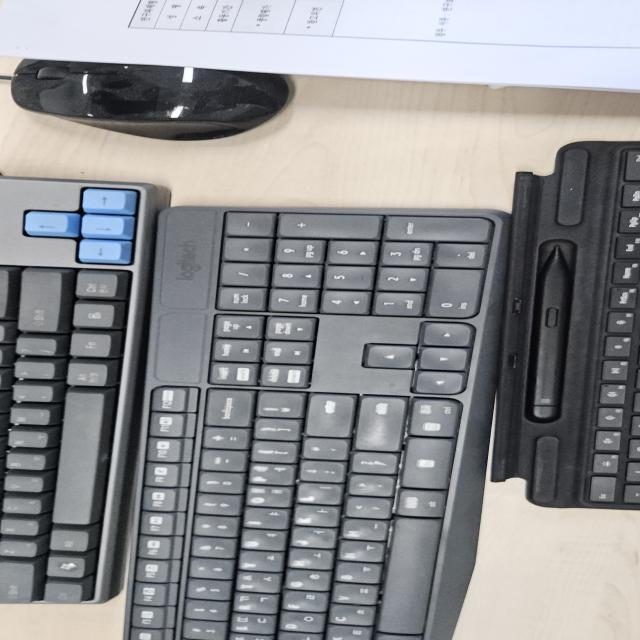Keyboard: (113, 200, 526, 640)
Mouse: (4, 47, 299, 143)
